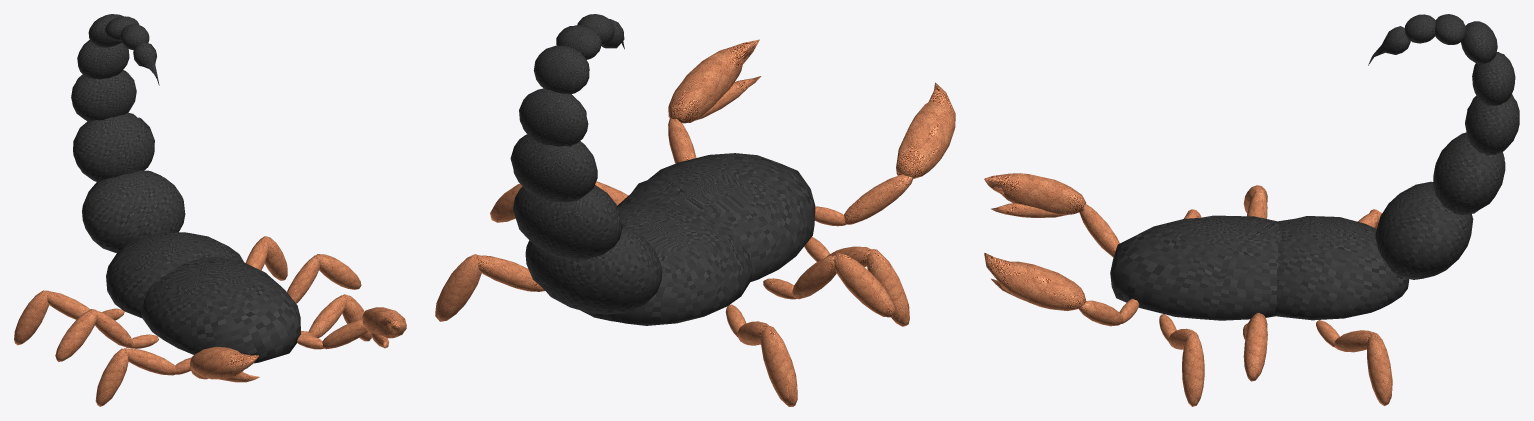
Rendered from scorpion_000001.obj.
3 renders of one model, left to right at view 1: azimuth 30°, elevation 25°; view 2: azimuth 150°, elevation 25°; view 3: azimuth 270°, elevation 25°, orthographic. The views are drawn at different scales.
Visible parts, largest first — view 1: Sphere.010_Sphere.012, Sphere.002_Sphere.004, Sphere.011_Sphere.013, Sphere.003_Sphere.005, Sphere.030_Sphere.000, Sphere.004_Sphere.006, Sphere.012_Sphere.020, Sphere.014_Sphere.023, Sphere.013_Sphere.017, Sphere.000_Sphere.019, Sphere.005_Sphere.007, Sphere.016_Sphere.022 (+7 smaller); view 2: Sphere.010_Sphere.012, Sphere.011_Sphere.013, Sphere.002_Sphere.004, Sphere.030_Sphere.000, Sphere.003_Sphere.005, Sphere.004_Sphere.006, Sphere.014_Sphere.023, Sphere.005_Sphere.007, Sphere.012_Sphere.020, Sphere.028_Sphere.046, Sphere.006_Sphere.008, Sphere.018_Sphere.025 (+8 smaller); view 3: Sphere.010_Sphere.012, Sphere.011_Sphere.013, Sphere.002_Sphere.004, Sphere.030_Sphere.000, Sphere.003_Sphere.005, Sphere.004_Sphere.006, Sphere.005_Sphere.007, Sphere.028_Sphere.046, Sphere.012_Sphere.020, Sphere.014_Sphere.023, Sphere.000_Sphere.019, Sphere.006_Sphere.008 (+6 smaller).
Part boxes in pixels (left/top/right/bottom): Sphere.010_Sphere.012: left=141, top=257, right=300, bottom=363; Sphere.002_Sphere.004: left=82, top=170, right=185, bottom=252; Sphere.011_Sphere.013: left=106, top=232, right=244, bottom=318; Sphere.003_Sphere.005: left=73, top=113, right=154, bottom=181; Sphere.030_Sphere.000: left=190, top=307, right=406, bottom=379; Sphere.004_Sphere.006: left=71, top=70, right=136, bottom=121; Sphere.012_Sphere.020: left=55, top=254, right=361, bottom=361; Sphere.014_Sphere.023: left=14, top=236, right=287, bottom=345; Sphere.013_Sphere.017: left=124, top=295, right=346, bottom=375; Sphere.000_Sphere.019: left=95, top=294, right=371, bottom=406; Sphere.005_Sphere.007: left=77, top=40, right=129, bottom=79; Sphere.016_Sphere.022: left=95, top=255, right=319, bottom=348; Sphere.010_Sphere.012: left=617, top=153, right=815, bottom=281; Sphere.011_Sphere.013: left=581, top=200, right=752, bottom=325; Sphere.002_Sphere.004: left=525, top=223, right=662, bottom=314; Sphere.030_Sphere.000: left=668, top=39, right=955, bottom=178; Sphere.003_Sphere.005: left=513, top=185, right=622, bottom=260; Sphere.004_Sphere.006: left=510, top=134, right=597, bottom=202; Sphere.014_Sphere.023: left=435, top=254, right=797, bottom=406; Sphere.005_Sphere.007: left=519, top=88, right=588, bottom=146; Sphere.012_Sphere.020: left=490, top=183, right=894, bottom=317; Sphere.028_Sphere.046: left=668, top=118, right=913, bottom=224; Sphere.006_Sphere.008: left=533, top=45, right=589, bottom=94; Sphere.018_Sphere.025: left=476, top=255, right=768, bottom=345; Sphere.010_Sphere.012: left=1110, top=215, right=1281, bottom=320; Sphere.011_Sphere.013: left=1275, top=216, right=1409, bottom=320; Sphere.002_Sphere.004: left=1375, top=181, right=1473, bottom=279; Sphere.030_Sphere.000: left=984, top=173, right=1086, bottom=310; Sphere.003_Sphere.005: left=1433, top=132, right=1505, bottom=215; Sphere.004_Sphere.006: left=1465, top=94, right=1519, bottom=155; Sphere.005_Sphere.007: left=1472, top=52, right=1515, bottom=105; Sphere.028_Sphere.046: left=1078, top=204, right=1123, bottom=326; Sphere.012_Sphere.020: left=1243, top=185, right=1267, bottom=381; Sphere.014_Sphere.023: left=1367, top=209, right=1392, bottom=405; Sphere.000_Sphere.019: left=1182, top=209, right=1204, bottom=406; Sphere.006_Sphere.008: left=1461, top=21, right=1497, bottom=64.
Bounding box in the file's own units: 0.9668 × 0.8349 × 1.28.
Materials: 2 (2 with a texture image).
